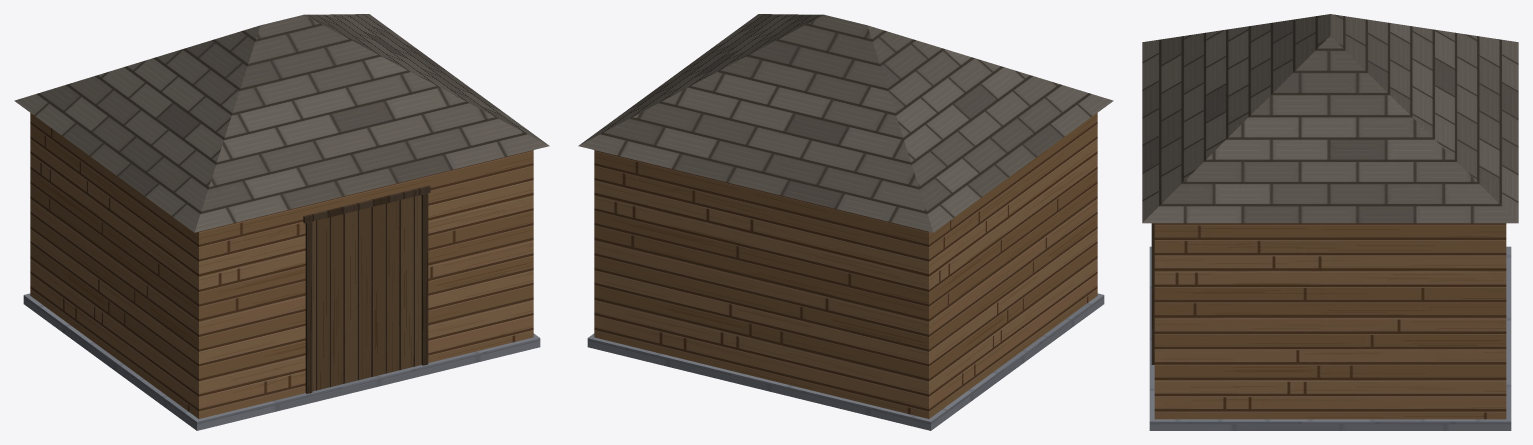
Rendered from house_booth.glb.
3 views of the same model, side by side, from view 1: azimuth 30°, elevation 25°; view 2: azimuth 150°, elevation 25°; view 3: azimuth 270°, elevation 25° (orthographic). The views are drawn at different scales.
Visible parts, largest first — view 1: ae_snow_house_booth; view 2: ae_snow_house_booth; view 3: ae_snow_house_booth.
Boxes of the visible parts, <box> form: ae_snow_house_booth: <box>14,14,549,430</box>; ae_snow_house_booth: <box>578,14,1113,430</box>; ae_snow_house_booth: <box>1142,14,1518,430</box>.
Bounding box in the file's own units: 4.14 × 3.4 × 3.64.
1 material, 1 textured.
